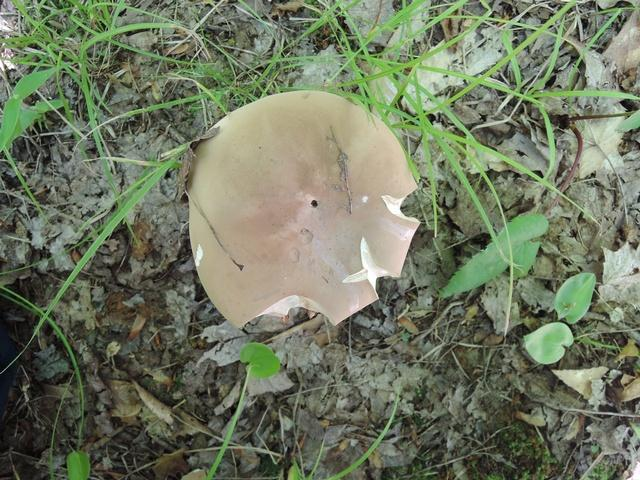Non-edible Mushroom: (183, 88, 421, 330)
